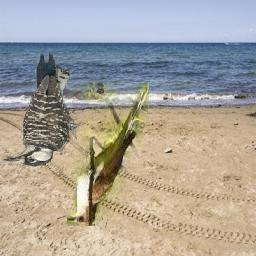Cuckoo: (67, 84, 149, 227)
Woodpecker: (0, 50, 87, 167)
